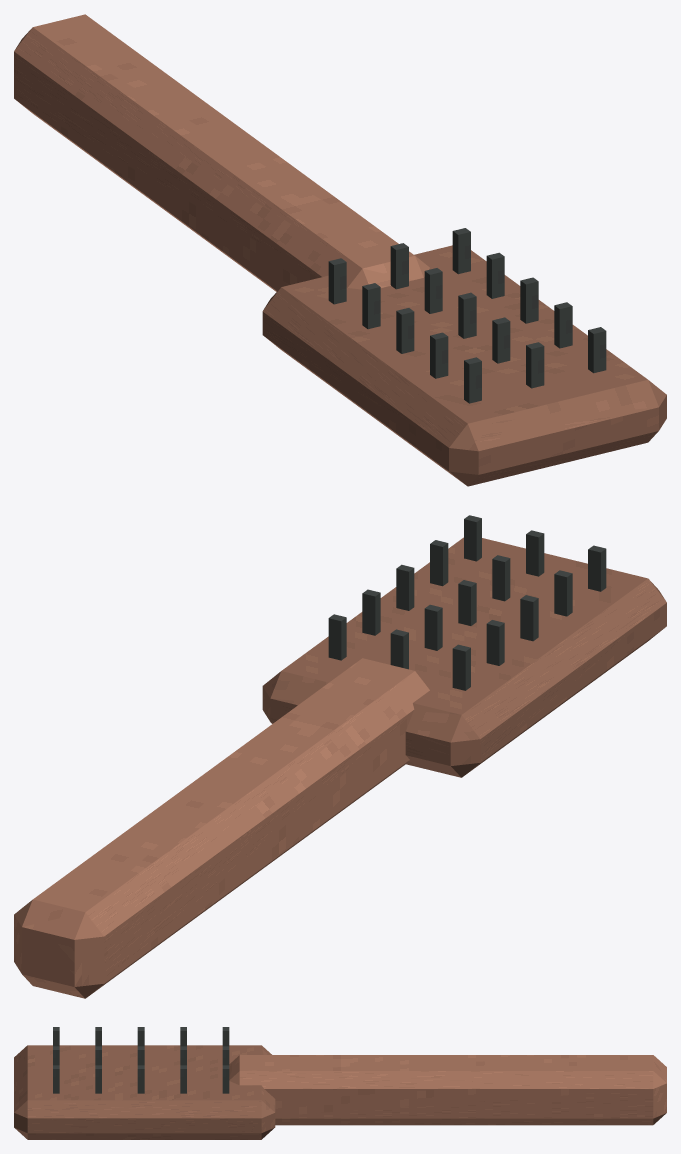
Rendered from hairbrush.glb.
3 renders of one model, top to bottom at view 1: azimuth 30°, elevation 25°; view 2: azimuth 150°, elevation 25°; view 3: azimuth 270°, elevation 25°, orthographic. The views are drawn at different scales.
Visible parts, largest first — view 1: block_head, block_soft grip, block_bristle -1 2, block_bristle -1 3, block_bristle 1 2, block_bristle 1 3, block_bristle -1 0, block_bristle -1 1, block_bristle 0 2, block_bristle 0 3, block_bristle 1 0, block_bristle 1 1 (+5 smaller); view 2: block_soft grip, block_head, block_bristle 0 4, block_bristle 1 0, block_bristle -1 0, block_bristle 1 1, block_bristle -1 2, block_bristle 0 2, block_bristle 0 3, block_bristle -1 1, block_bristle -1 3, block_bristle -1 4 (+4 smaller); view 3: block_soft grip, block_head, block_bristle 1 0, block_bristle 1 2, block_bristle 1 1, block_bristle 1 3, block_bristle 1 4.
Boxes of the visible parts, x1,y1,x2,y2 form: block_head: (262, 245, 666, 486); block_soft grip: (14, 14, 429, 291); block_bristle -1 2: (396, 308, 414, 353); block_bristle -1 3: (430, 332, 448, 378); block_bristle 1 2: (520, 277, 538, 323); block_bristle 1 3: (554, 302, 572, 348); block_bristle -1 0: (328, 258, 346, 304); block_bristle -1 1: (362, 283, 380, 329); block_bristle 0 2: (458, 292, 476, 338); block_bristle 0 3: (492, 317, 510, 363); block_bristle 1 0: (452, 228, 470, 274); block_bristle 1 1: (486, 252, 504, 298); block_soft grip: (14, 658, 429, 998); block_head: (262, 537, 666, 777); block_bristle 0 4: (526, 530, 544, 576); block_bristle 1 0: (328, 614, 346, 660); block_bristle -1 0: (452, 644, 470, 690); block_bristle 1 1: (362, 589, 380, 635); block_bristle -1 2: (520, 595, 538, 641); block_bristle 0 2: (458, 580, 476, 625); block_bristle 0 3: (492, 555, 510, 601); block_bristle -1 1: (486, 620, 504, 665); block_bristle -1 3: (554, 570, 572, 616); block_bristle -1 4: (588, 545, 606, 591); block_soft grip: (229, 1055, 666, 1125); block_head: (14, 1045, 275, 1139); block_bristle 1 0: (222, 1065, 229, 1093); block_bristle 1 2: (137, 1065, 144, 1093); block_bristle 1 1: (180, 1065, 186, 1093); block_bristle 1 3: (95, 1065, 101, 1093); block_bristle 1 4: (53, 1065, 59, 1093).
Size of the model in its own units: 0.058 by 0.028 by 0.24.
1 material, 1 textured.
